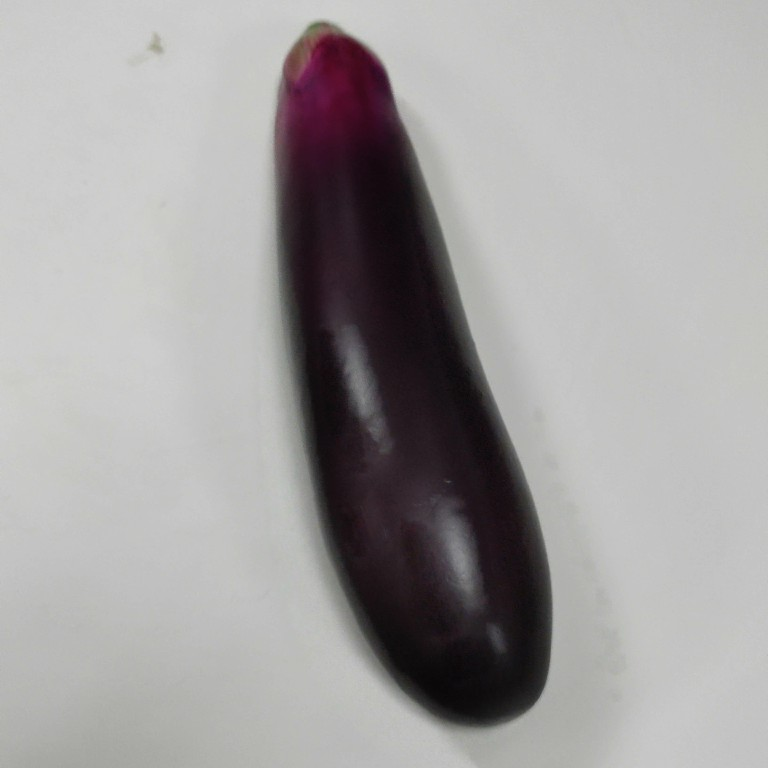fruit_eggplant: (263, 10, 576, 738)
